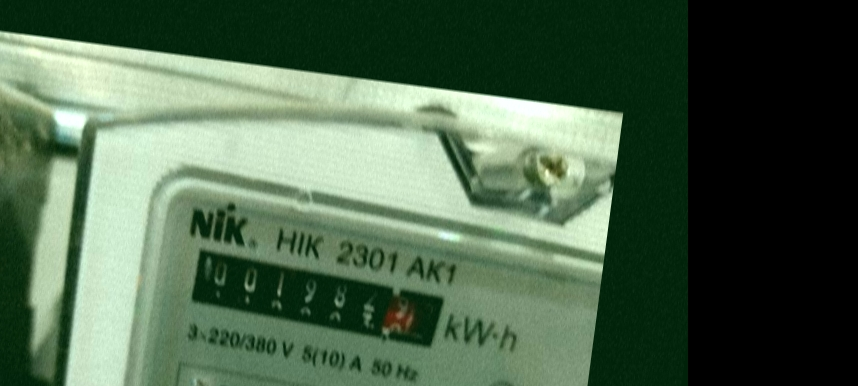0: (207, 254, 227, 285), (237, 261, 257, 292)
1: (269, 265, 284, 295)
2: (357, 279, 379, 311)
8: (328, 277, 347, 306)
9: (387, 289, 411, 320), (297, 272, 316, 302)
screen: (168, 230, 459, 361)
